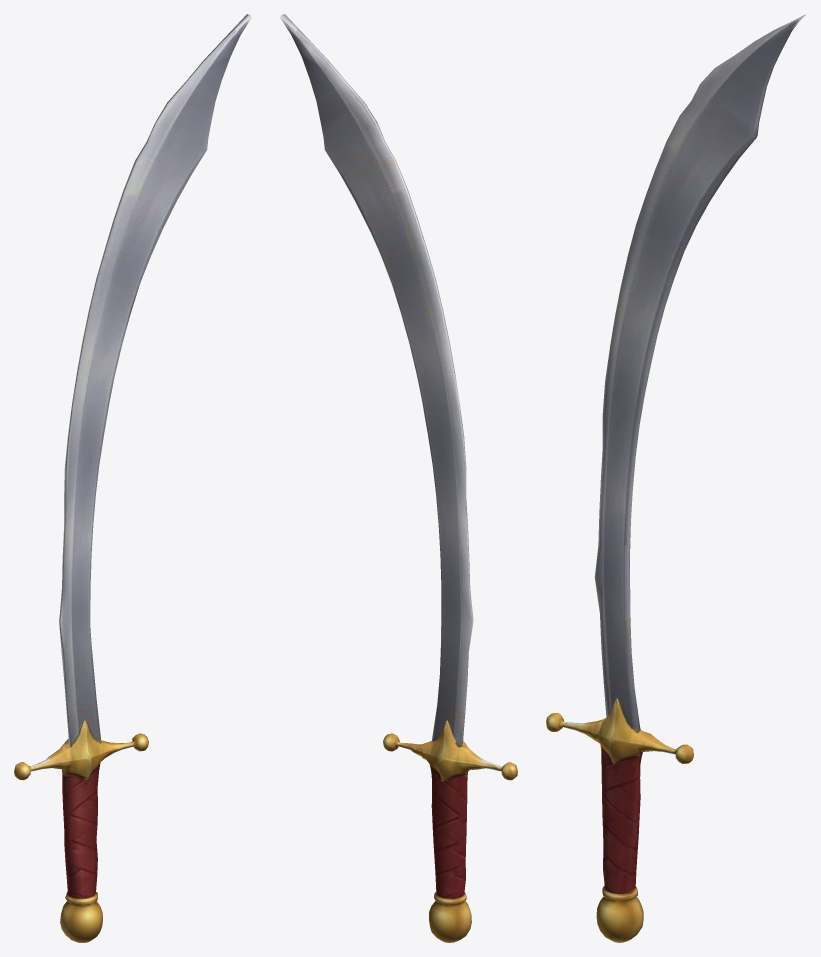
The model's file is alp_kilic.glb.
The picture shows the model from 3 angles, left to right: view 1: azimuth 30°, elevation 25°; view 2: azimuth 150°, elevation 25°; view 3: azimuth 330°, elevation 25°; orthographic projection. The views are drawn at different scales.
Size of the model in its own units: 0.2641 by 0.9502 by 0.044.
1 material, 1 textured.
